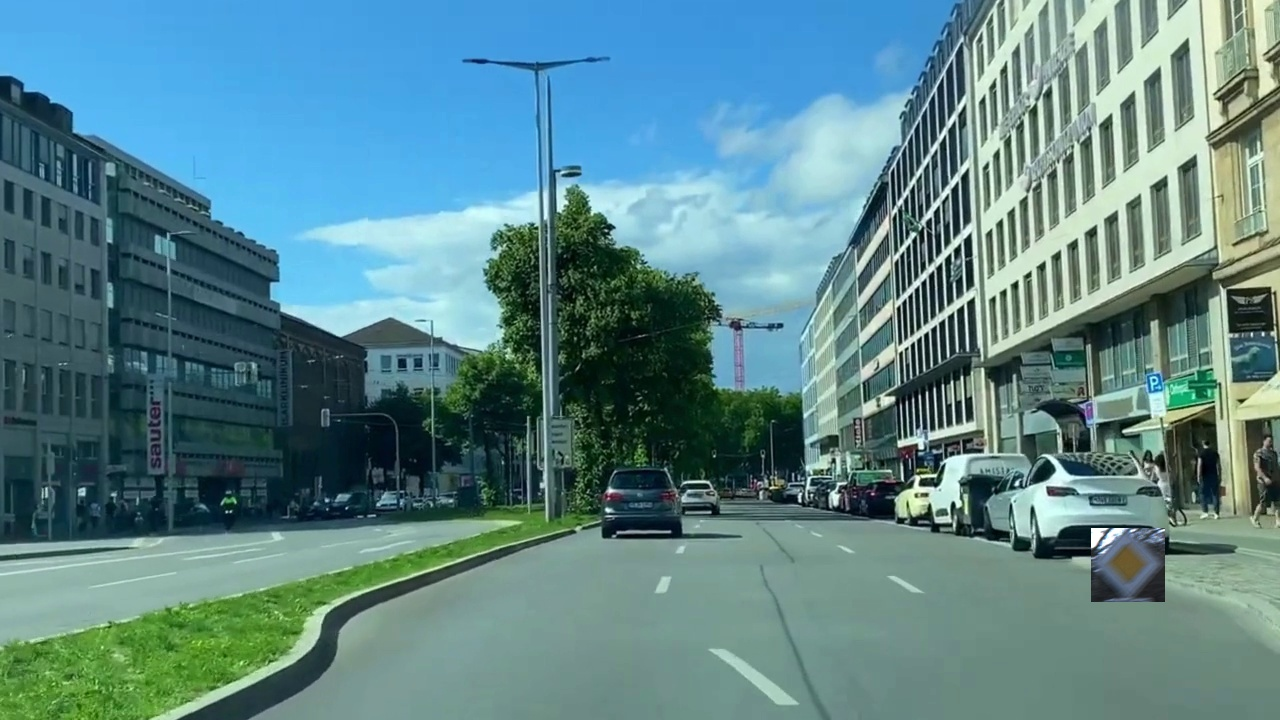Priority road: (1091, 528, 1165, 602)
